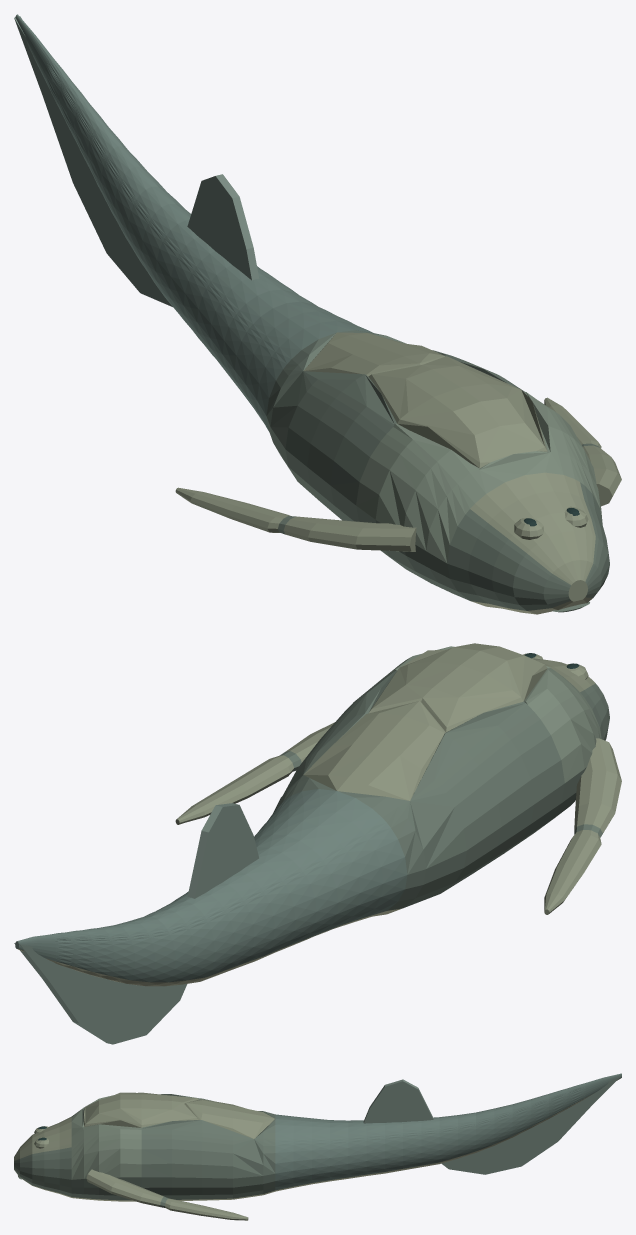
3 renders of one model, top to bottom at view 1: azimuth 30°, elevation 25°; view 2: azimuth 150°, elevation 25°; view 3: azimuth 270°, elevation 25°, orthographic. The views are drawn at different scales.
Visible parts, largest first — view 1: 01-attached-head-armored-box-and-upper-tail-axis, L-articulated-bony-pectoral-paddle, 04-single-lower-caudal-web, 03-single-small-dorsal, R-articulated-bony-pectoral-paddle; view 2: 01-attached-head-armored-box-and-upper-tail-axis, 04-single-lower-caudal-web, L-articulated-bony-pectoral-paddle, 03-single-small-dorsal, R-articulated-bony-pectoral-paddle; view 3: 01-attached-head-armored-box-and-upper-tail-axis, 04-single-lower-caudal-web, 03-single-small-dorsal, R-articulated-bony-pectoral-paddle.
Part boxes in pixels (box(x1,y1,x2,y2)): 01-attached-head-armored-box-and-upper-tail-axis: box(15, 14, 609, 614); L-articulated-bony-pectoral-paddle: box(175, 487, 416, 551); 04-single-lower-caudal-web: box(14, 16, 172, 306); 03-single-small-dorsal: box(187, 174, 259, 280); R-articulated-bony-pectoral-paddle: box(544, 397, 621, 506); 01-attached-head-armored-box-and-upper-tail-axis: box(15, 643, 609, 986); 04-single-lower-caudal-web: box(14, 943, 187, 1044); L-articulated-bony-pectoral-paddle: box(544, 738, 621, 914); 03-single-small-dorsal: box(187, 803, 258, 898); R-articulated-bony-pectoral-paddle: box(175, 722, 334, 824); 01-attached-head-armored-box-and-upper-tail-axis: box(14, 1073, 621, 1201); 04-single-lower-caudal-web: box(441, 1075, 621, 1174); 03-single-small-dorsal: box(363, 1079, 433, 1123); R-articulated-bony-pectoral-paddle: box(86, 1169, 248, 1220).
Size of the model in its own units: 0.0771 by 0.0415 by 0.2.
